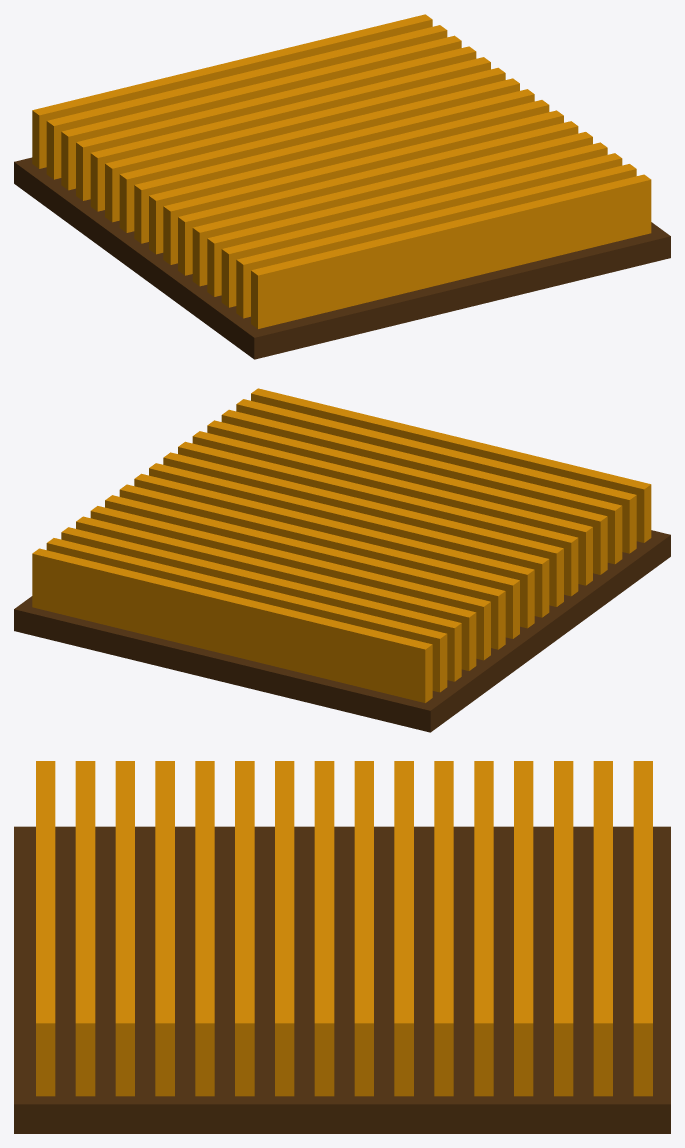
The model's file is FarmField_02.fbx.
3 views of the same model, one above another, from view 1: azimuth 30°, elevation 25°; view 2: azimuth 150°, elevation 25°; view 3: azimuth 270°, elevation 25° (orthographic). The views are drawn at different scales.
Visible parts, largest first — view 1: FarmField_02; view 2: FarmField_02; view 3: FarmField_02.
Boxes of the visible parts, <box> form: FarmField_02: <box>14,14,670,359</box>; FarmField_02: <box>14,388,670,732</box>; FarmField_02: <box>14,761,670,1133</box>.
Bounding box in the file's own units: 1 × 0.173 × 1.
